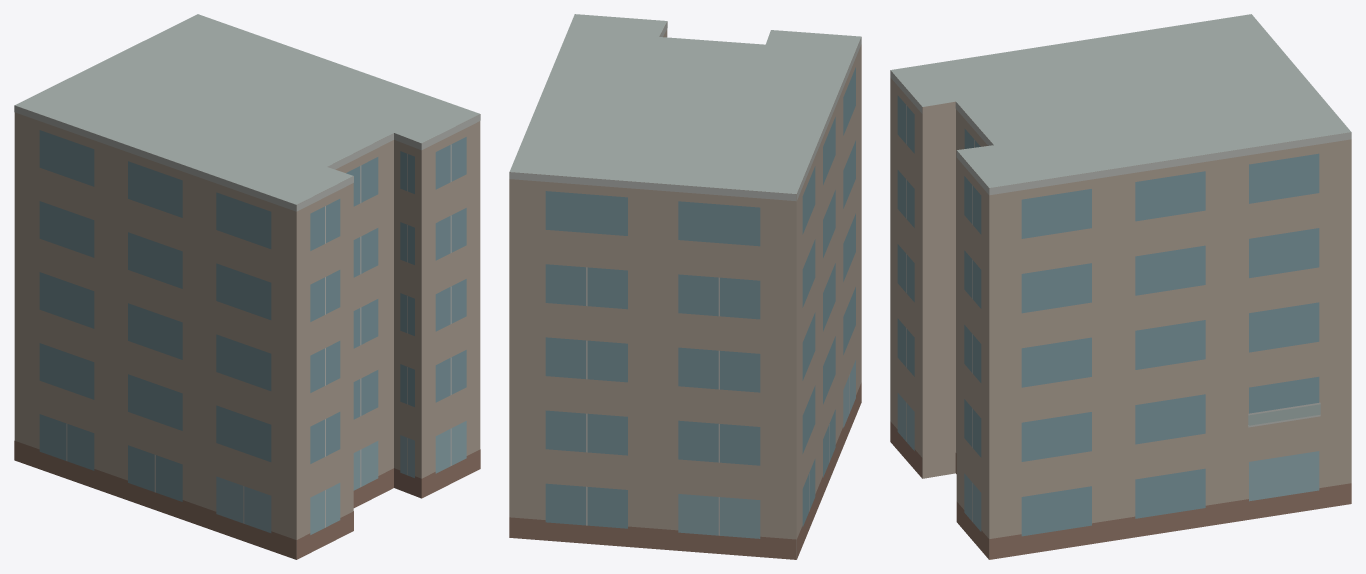
File: survey-upis-33044563.glb
3 renders of one model, left to right at view 1: azimuth 30°, elevation 25°; view 2: azimuth 150°, elevation 25°; view 3: azimuth 270°, elevation 25°, orthographic. The views are drawn at different scales.
Visible parts, largest first — view 1: survey-upis-33044563.tmp; view 2: survey-upis-33044563.tmp; view 3: survey-upis-33044563.tmp.
Part boxes in pixels (bbox=[...]): survey-upis-33044563.tmp: bbox=[14, 14, 480, 559]; survey-upis-33044563.tmp: bbox=[509, 14, 861, 559]; survey-upis-33044563.tmp: bbox=[890, 14, 1351, 559].
Bounding box in the file's own units: 12.66 × 12.6 × 14.18.
